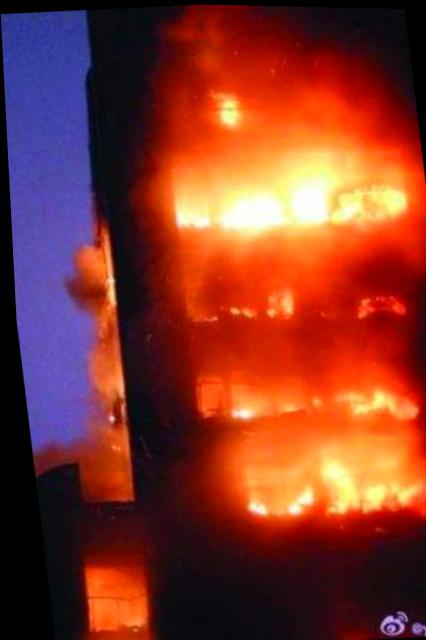fire: (153, 129, 423, 545), (74, 215, 130, 500), (64, 540, 152, 639), (197, 84, 253, 133)
